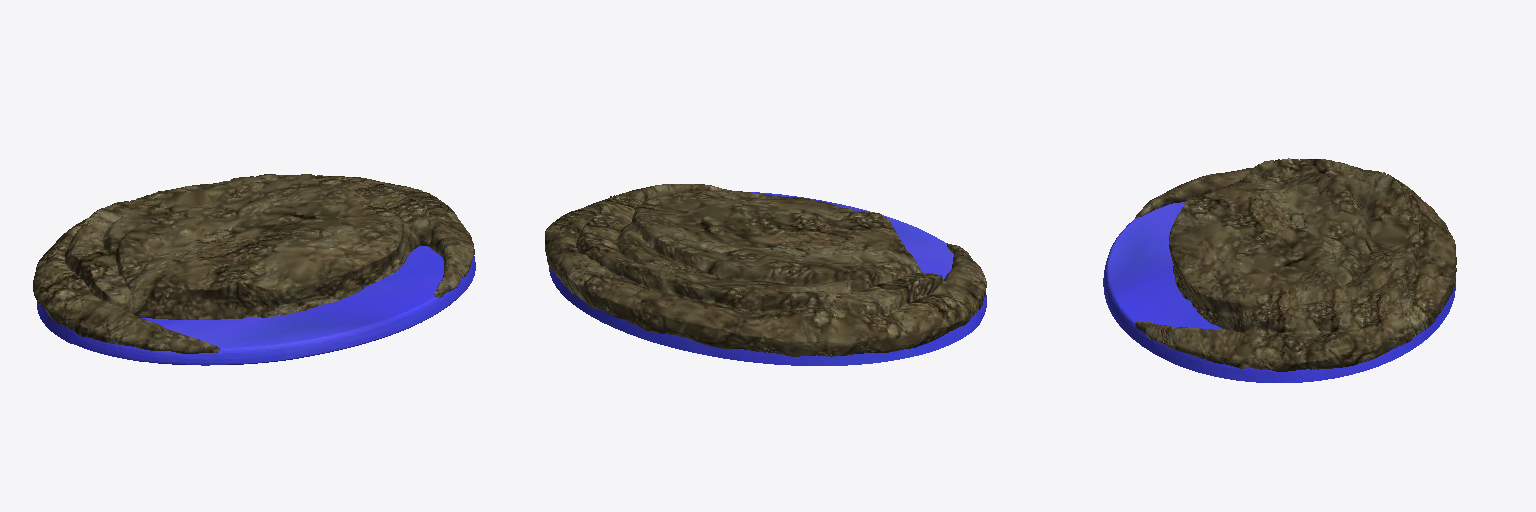
3 renders of one model, left to right at view 1: azimuth 30°, elevation 25°; view 2: azimuth 150°, elevation 25°; view 3: azimuth 270°, elevation 25°, orthographic.
Parts seen in each view (by area): view 1: Group29695, Group29680; view 2: Group29695, Group29680; view 3: Group29695, Group29680.
Part boxes in pixels (left/top/right/bottom): Group29695: left=33, top=174, right=474, bottom=353; Group29680: left=37, top=246, right=475, bottom=365; Group29695: left=545, top=184, right=986, bottom=356; Group29680: left=549, top=191, right=986, bottom=365; Group29695: left=1135, top=158, right=1456, bottom=371; Group29680: left=1103, top=202, right=1455, bottom=382.
Size of the model in its own units: 4.14 by 0.574 by 3.12.
1 materials, 1 textured.